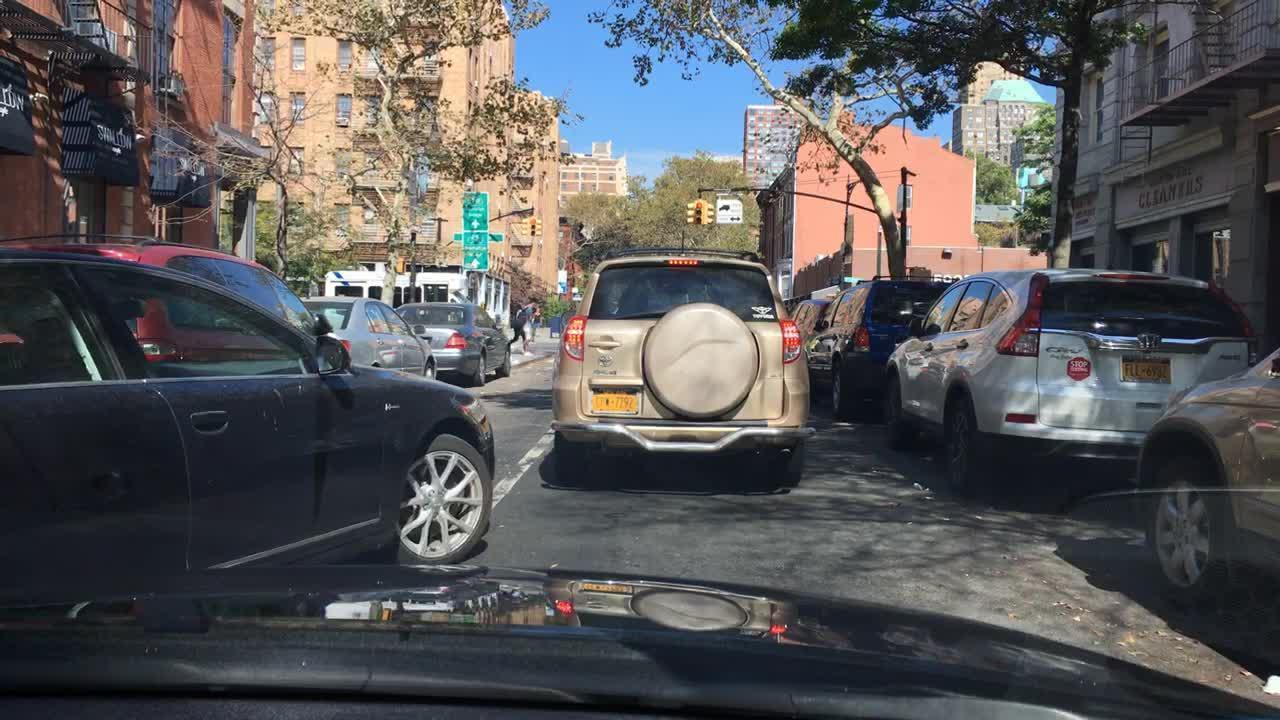Honda: (1137, 332, 1163, 353)
Toyota: (593, 350, 618, 372)
